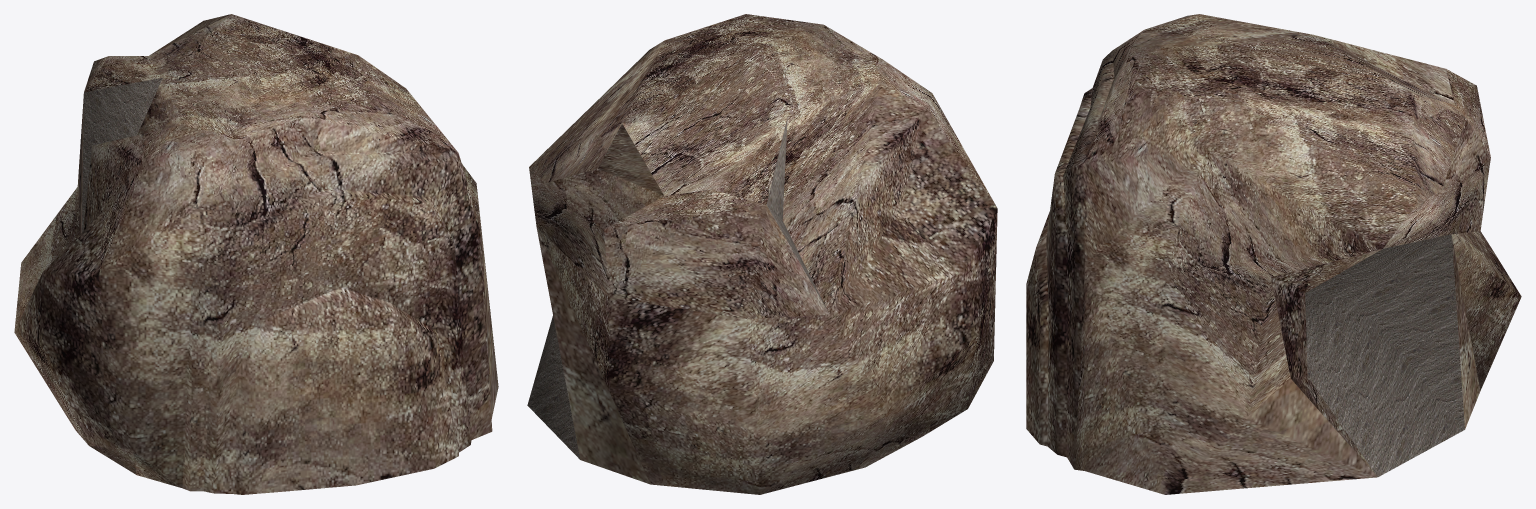
File: large_boulder01.fbx
3 views of the same model, side by side, from view 1: azimuth 30°, elevation 25°; view 2: azimuth 150°, elevation 25°; view 3: azimuth 270°, elevation 25° (orthographic). The views are drawn at different scales.
Visible parts, largest first — view 1: mesh_0, mesh_1; view 2: mesh_0, mesh_1; view 3: mesh_0, mesh_1.
Part boxes in pixels (<box>): mesh_0: <box>14,14,498,494</box>; mesh_1: <box>82,77,162,232</box>; mesh_0: <box>529,14,997,494</box>; mesh_1: <box>527,117,827,459</box>; mesh_0: <box>1026,14,1521,494</box>; mesh_1: <box>1305,234,1464,476</box>.
Bounding box in the file's own units: 597 × 469 × 597.
Materials: 2 (2 with a texture image).
